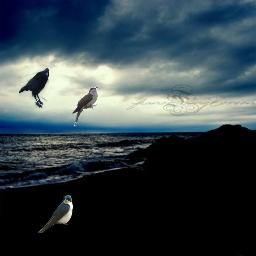Crow: (19, 68, 49, 108)
Cuckoo: (72, 87, 98, 127)
Swallow: (38, 195, 73, 233)
